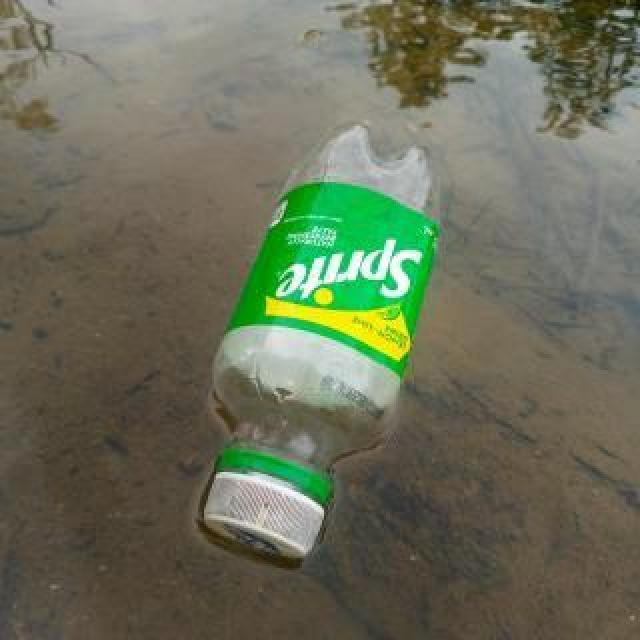bottle: (198, 118, 446, 560)
